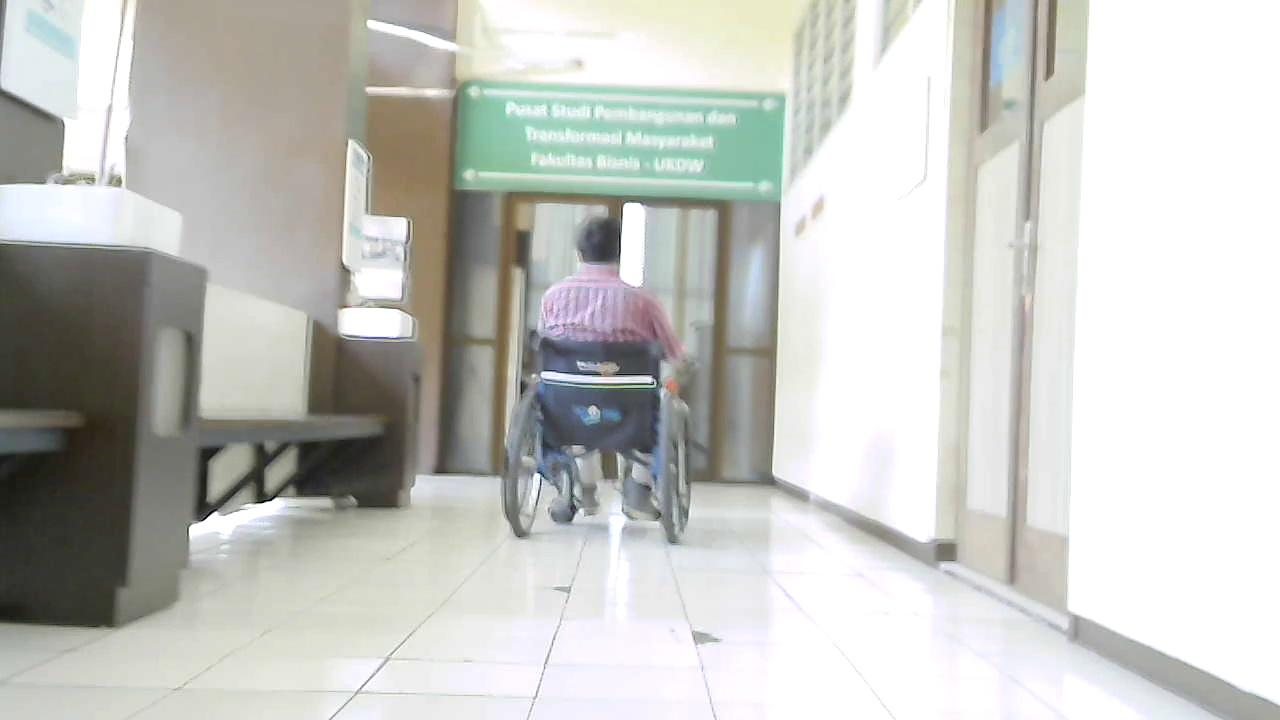person: (531, 215, 691, 523)
wheelchair: (465, 323, 713, 550)
